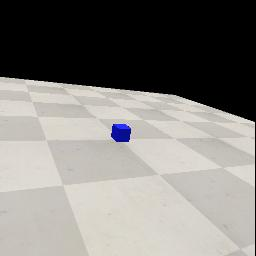box: (111, 124, 131, 142)
